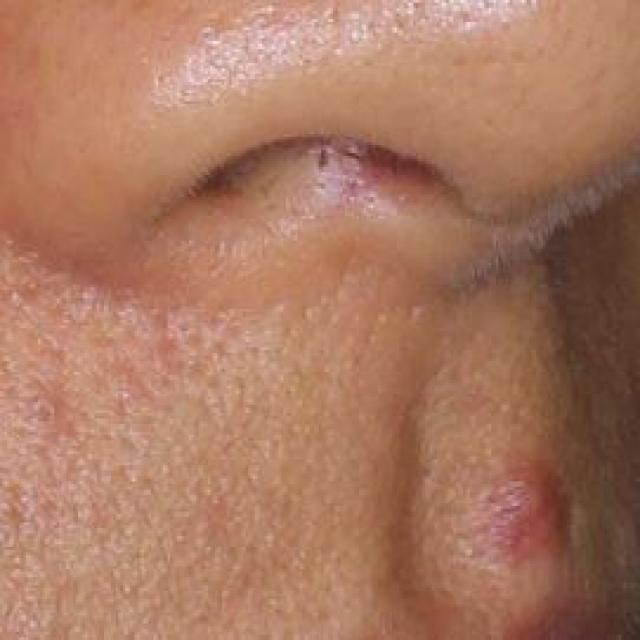blackheads: (477, 460, 581, 573)
